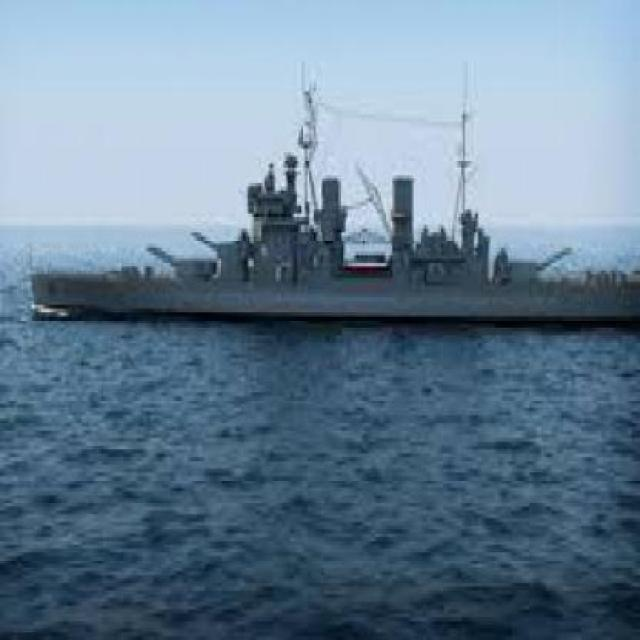warship2: (16, 119, 639, 374)
